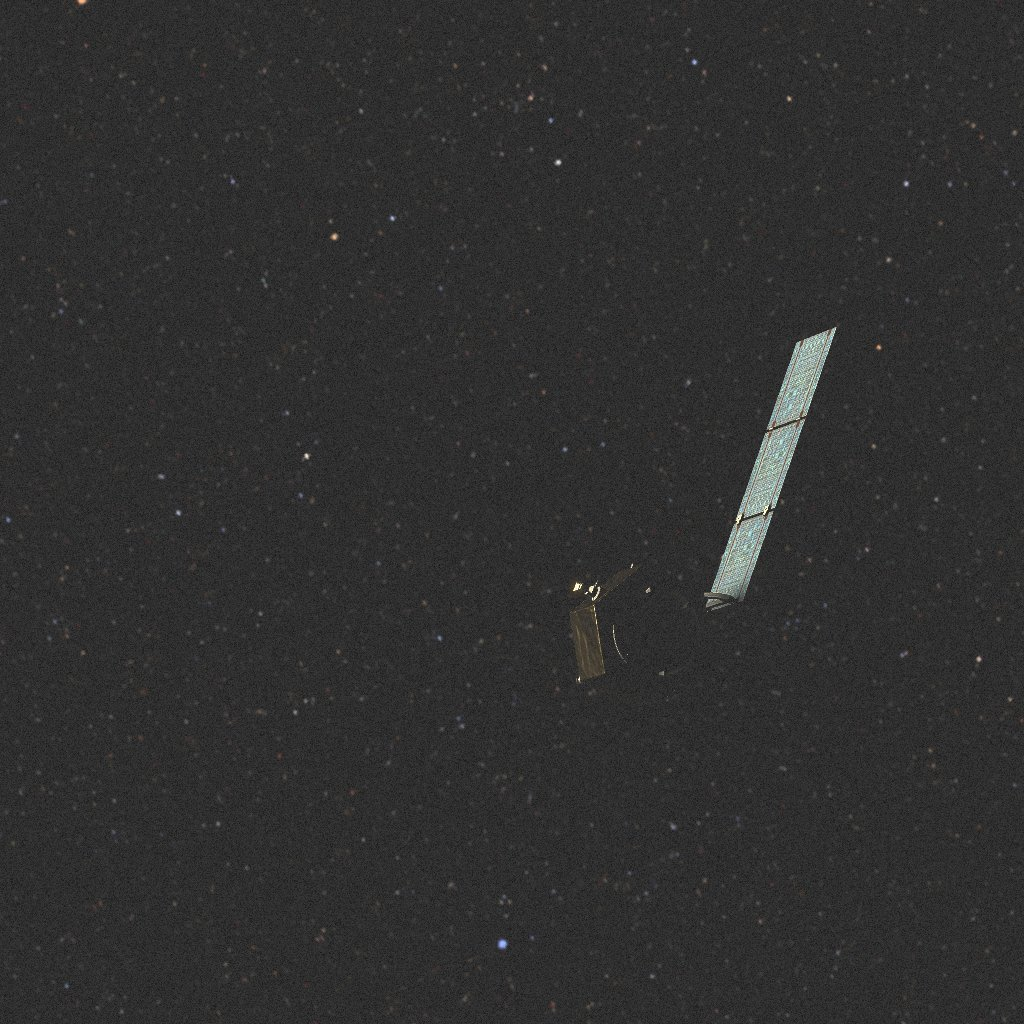earth_observation_sat_1: (570, 327, 839, 708)
